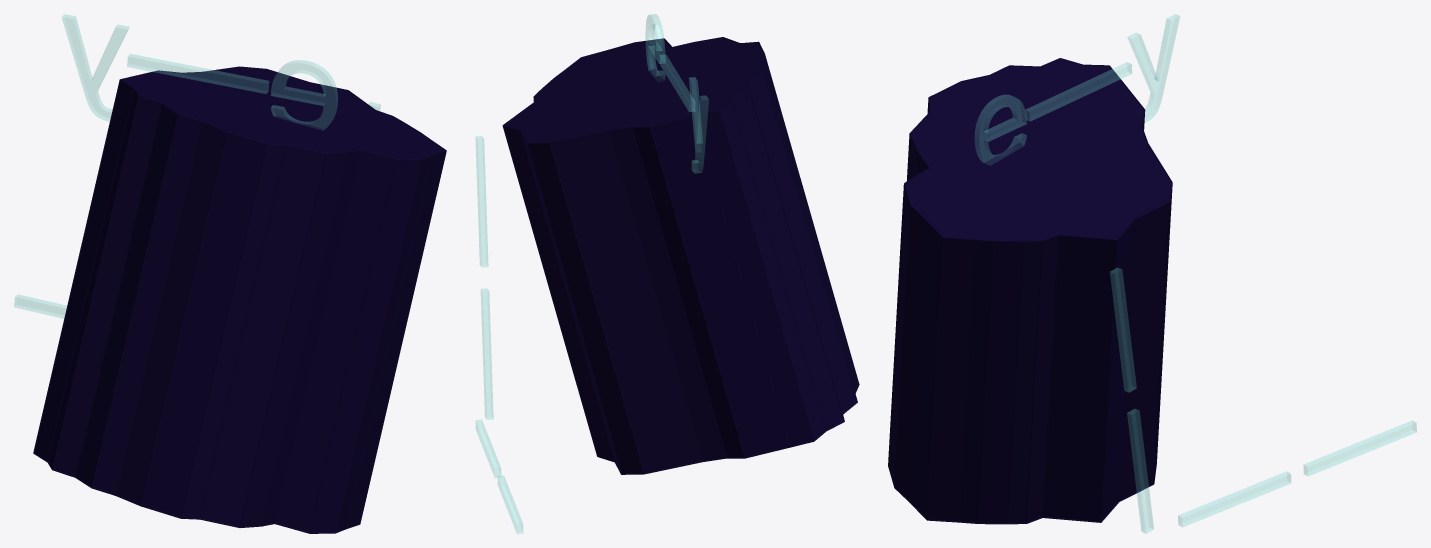
The model's file is forme1.fbx.
3 renders of one model, left to right at view 1: azimuth 30°, elevation 25°; view 2: azimuth 150°, elevation 25°; view 3: azimuth 270°, elevation 25°, orthographic. The views are drawn at different scales.
Parts seen in each view (by area): view 1: Extrude, Extrude_1, Cap_2_5, Cap_2_7, Cap_2_6; view 2: Extrude, Extrude_1, y, —_8, —_6, e; view 3: Extrude, Extrude_1, Cap_1_5, Cap_1_7, Cap_1, Cap_1_2, Cap_1_6, Cap_1_3, Cap_1_4.
Part boxes in pixels (<box>): Extrude: <box>34,67,445,532</box>; Extrude_1: <box>33,66,446,533</box>; Cap_2_5: <box>271,63,335,129</box>; Cap_2_7: <box>62,17,126,120</box>; Cap_2_6: <box>127,57,266,93</box>; Extrude: <box>504,38,858,473</box>; Extrude_1: <box>502,37,859,474</box>; y: <box>689,77,708,172</box>; —_8: <box>476,136,487,267</box>; —_6: <box>481,288,492,419</box>; e: <box>648,14,664,81</box>; Extrude: <box>889,59,1171,523</box>; Extrude_1: <box>888,58,1172,524</box>; Cap_1_5: <box>980,97,1026,165</box>; Cap_1_7: <box>1132,17,1179,122</box>; Cap_1: <box>1308,424,1416,475</box>; Cap_1_2: <box>1183,474,1290,526</box>; Cap_1_6: <box>1030,65,1131,120</box>; Cap_1_3: <box>1132,412,1153,532</box>; Cap_1_4: <box>1115,270,1136,391</box>.
Size of the model in its own units: 578 by 690 by 762.
